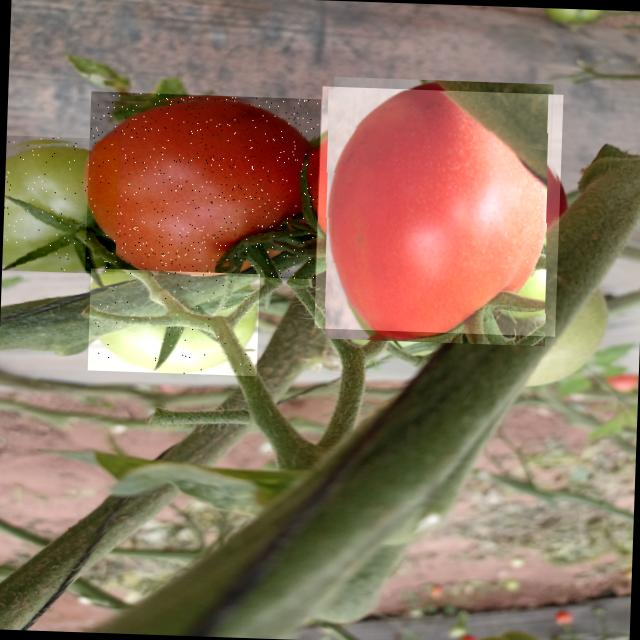Ripe Tomato: (314, 86, 563, 336), (84, 91, 320, 279)
Unripe Tomato: (88, 268, 260, 376), (1, 135, 120, 274)
